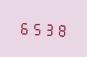eight: (54, 20, 65, 38)
five: (30, 19, 41, 36)
six: (18, 18, 29, 36)
three: (42, 19, 53, 37)
